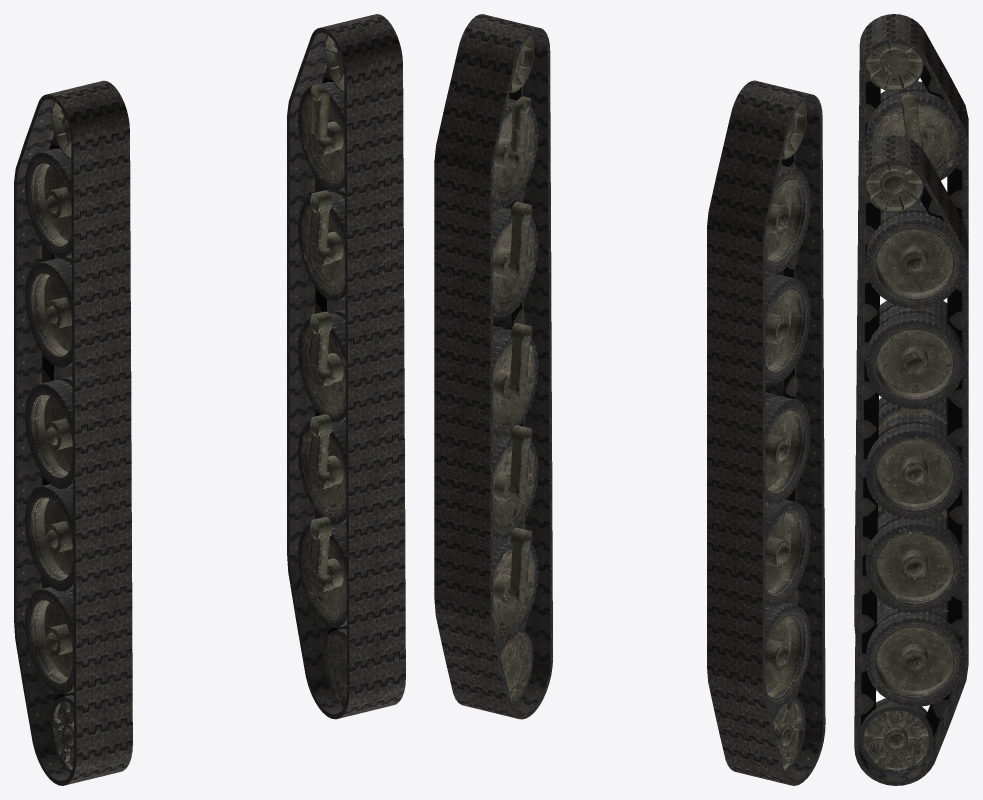
Rendered from Chassis.glb.
The picture shows the model from 3 angles, left to right: view 1: azimuth 30°, elevation 25°; view 2: azimuth 150°, elevation 25°; view 3: azimuth 270°, elevation 25°; orthographic projection. The views are drawn at different scales.
Visible parts, largest first — view 1: set_0_group_0, set_1_group_0, set_3_group_0, set_2_group_0; view 2: set_0_group_0, set_1_group_0, set_3_group_0, set_2_group_0; view 3: set_3_group_0, set_1_group_0, set_2_group_0, set_0_group_0.
Part boxes in pixels (x1,y1,x2,y2): set_0_group_0: [14, 80, 132, 785]; set_1_group_0: [287, 14, 405, 719]; set_3_group_0: [298, 35, 347, 706]; set_2_group_0: [25, 101, 74, 773]; set_0_group_0: [707, 80, 825, 785]; set_1_group_0: [434, 14, 552, 719]; set_3_group_0: [493, 35, 538, 707]; set_2_group_0: [765, 101, 810, 773]; set_3_group_0: [859, 164, 963, 774]; set_1_group_0: [854, 135, 968, 785]; set_2_group_0: [864, 43, 963, 616]; set_0_group_0: [854, 14, 968, 633].
Size of the model in its own units: 2.92 by 5.83 by 0.9631.
4 materials, 4 textured.
